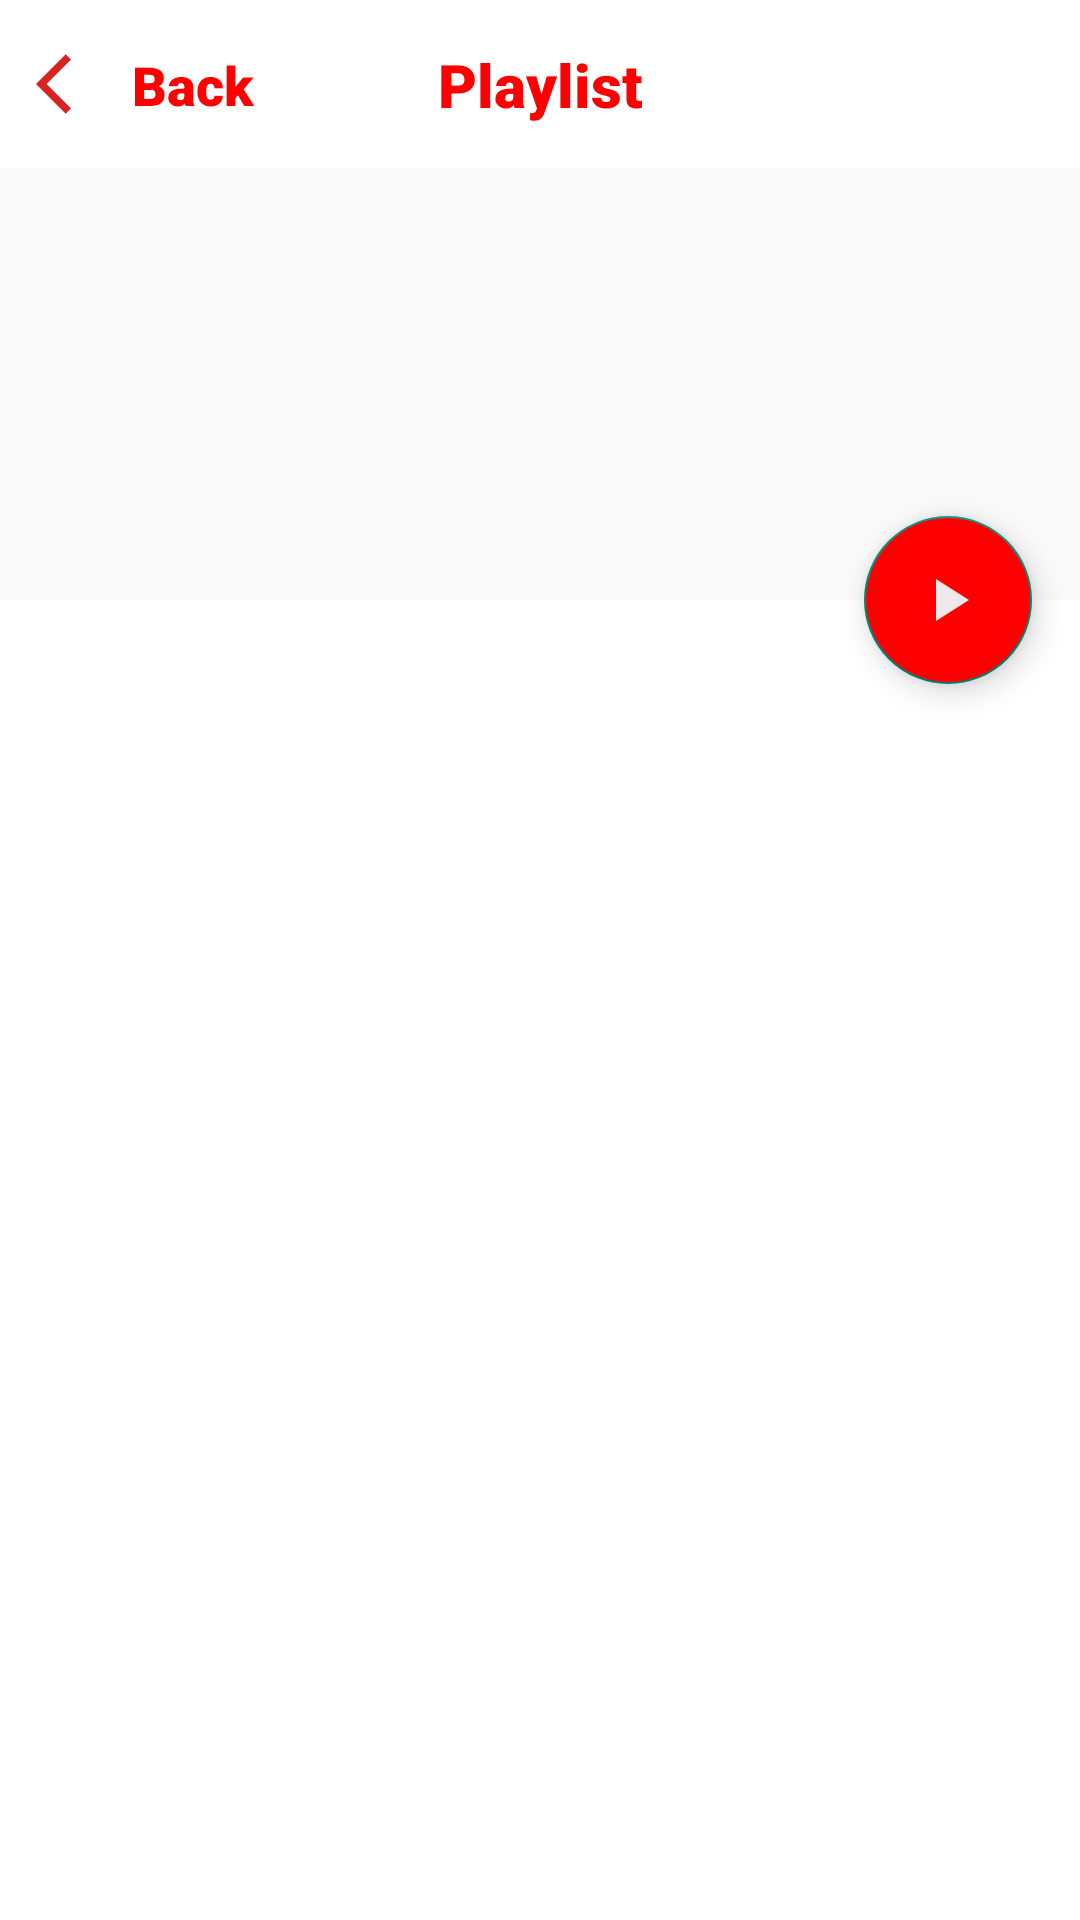

Icons on this 1080×1920 Android screen, each with the point to tap as (x,y):
play arrow: (948,600)
